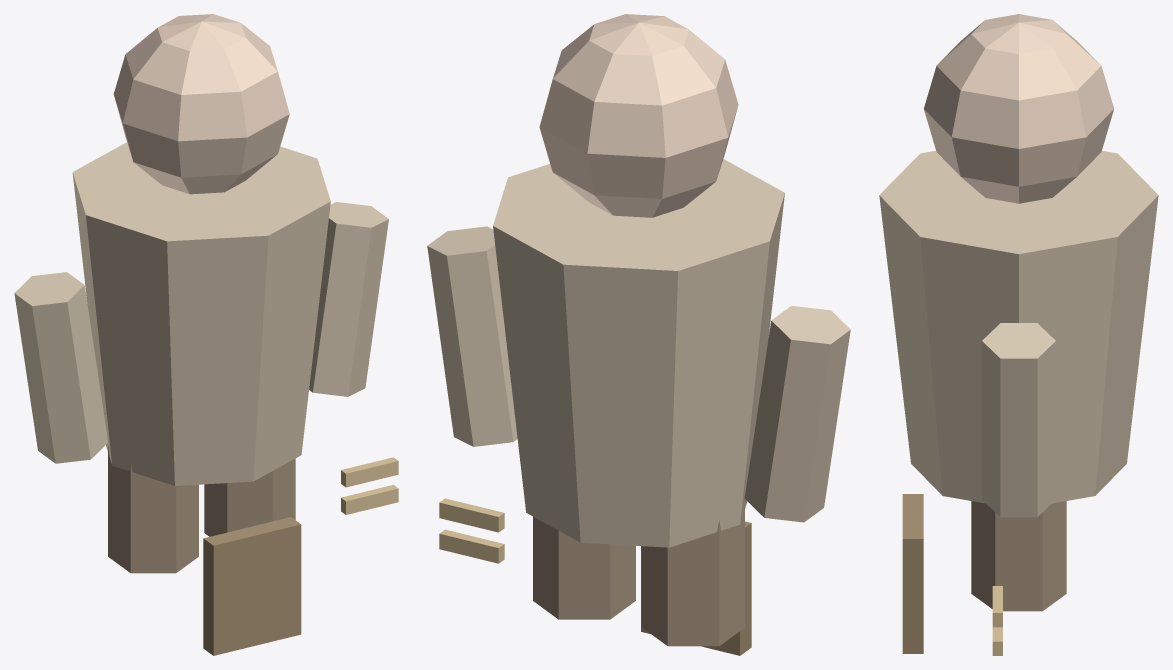
Rendered from sawmill_worker.glb.
The picture shows the model from 3 angles, left to right: view 1: azimuth 30°, elevation 25°; view 2: azimuth 150°, elevation 25°; view 3: azimuth 270°, elevation 25°; orthographic projection. The views are drawn at different scales.
Parts seen in each view (by area): view 1: sawmill_worker; view 2: sawmill_worker; view 3: sawmill_worker.
Boxes of the visible parts, x1,y1,x2,y2 form: sawmill_worker: [14, 14, 398, 655]; sawmill_worker: [427, 14, 850, 655]; sawmill_worker: [879, 14, 1158, 655].
Bounding box in the file's own units: 0.4134 × 0.635 × 0.264.
